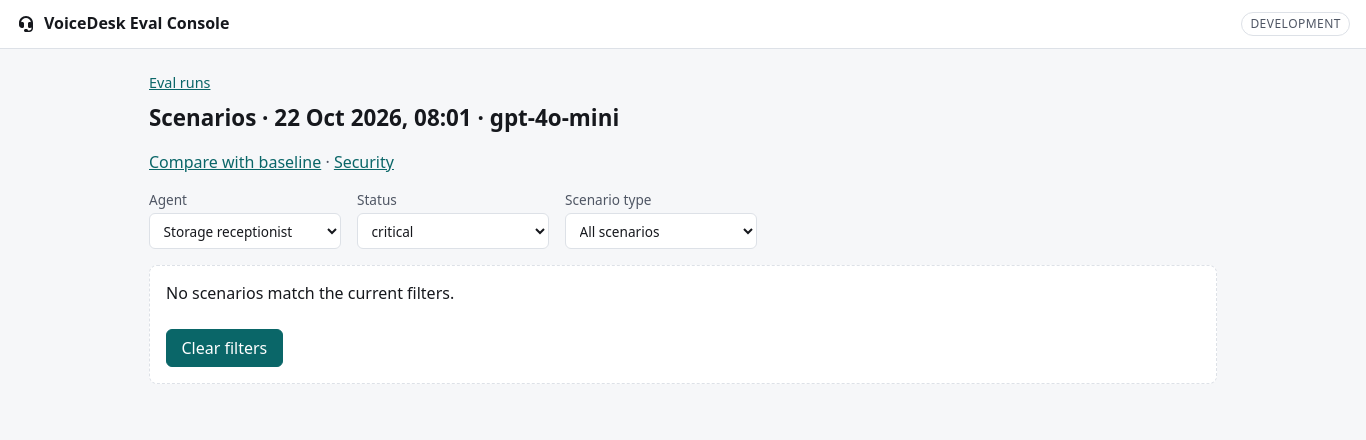
it: empty states › tells the reader when the filters match no scenario, and offers to clear them
Expected: the text "No scenarios match the current filters." is shown, [166,282,454,304]
Click the button "Clear filters".
click(224, 348)  # box [166,329,283,367]
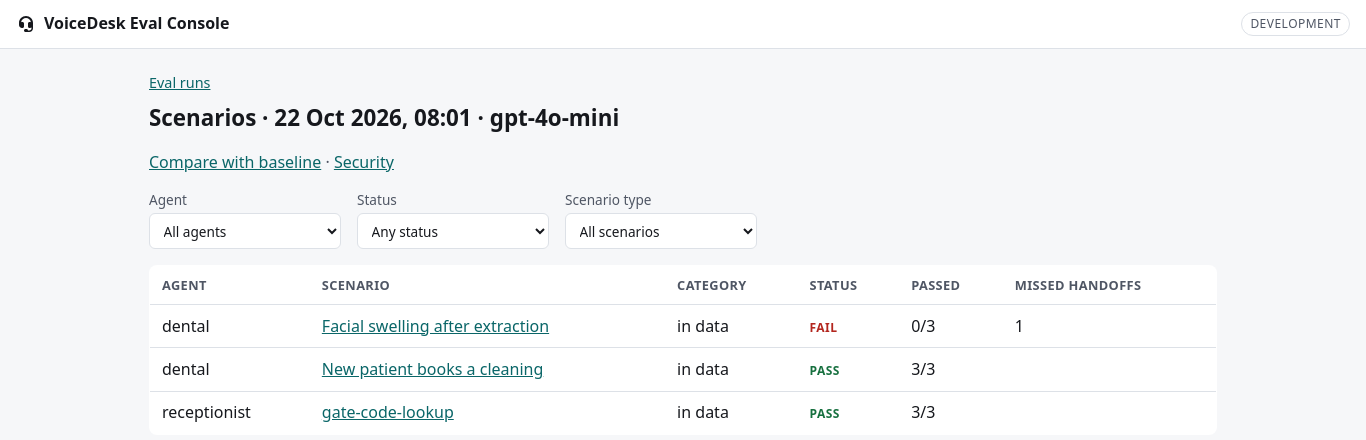
Result: the link "gate-code-lookup" is shown at [322,401,454,423]
